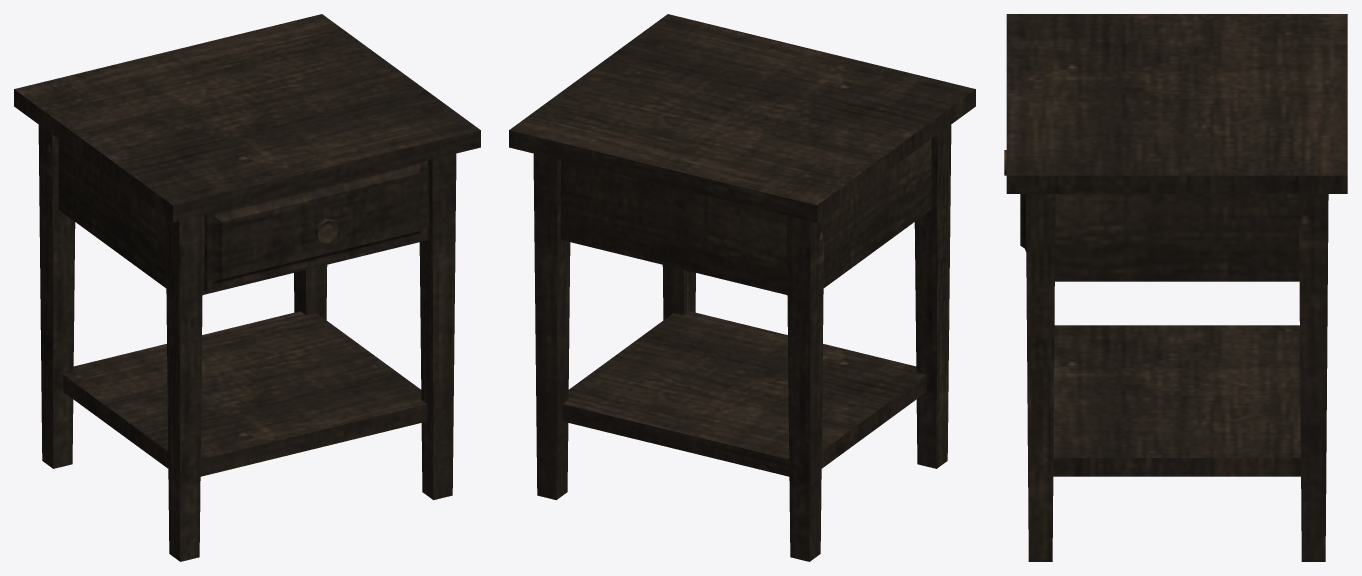
File: bedside_table_1_2.obj
3 renders of one model, left to right at view 1: azimuth 30°, elevation 25°; view 2: azimuth 150°, elevation 25°; view 3: azimuth 270°, elevation 25°, orthographic. The views are drawn at different scales.
Parts seen in each view (by area): view 1: bedside_table_1_2, bedside_table_1_2_drawer; view 2: bedside_table_1_2; view 3: bedside_table_1_2.
Part boxes in pixels (x1,y1,x2,y2): bedside_table_1_2: [14, 14, 480, 561]; bedside_table_1_2_drawer: [204, 160, 427, 291]; bedside_table_1_2: [509, 14, 975, 561]; bedside_table_1_2: [1006, 14, 1347, 561].
Size of the model in its own units: 0.56 by 0.64 by 0.5035.
